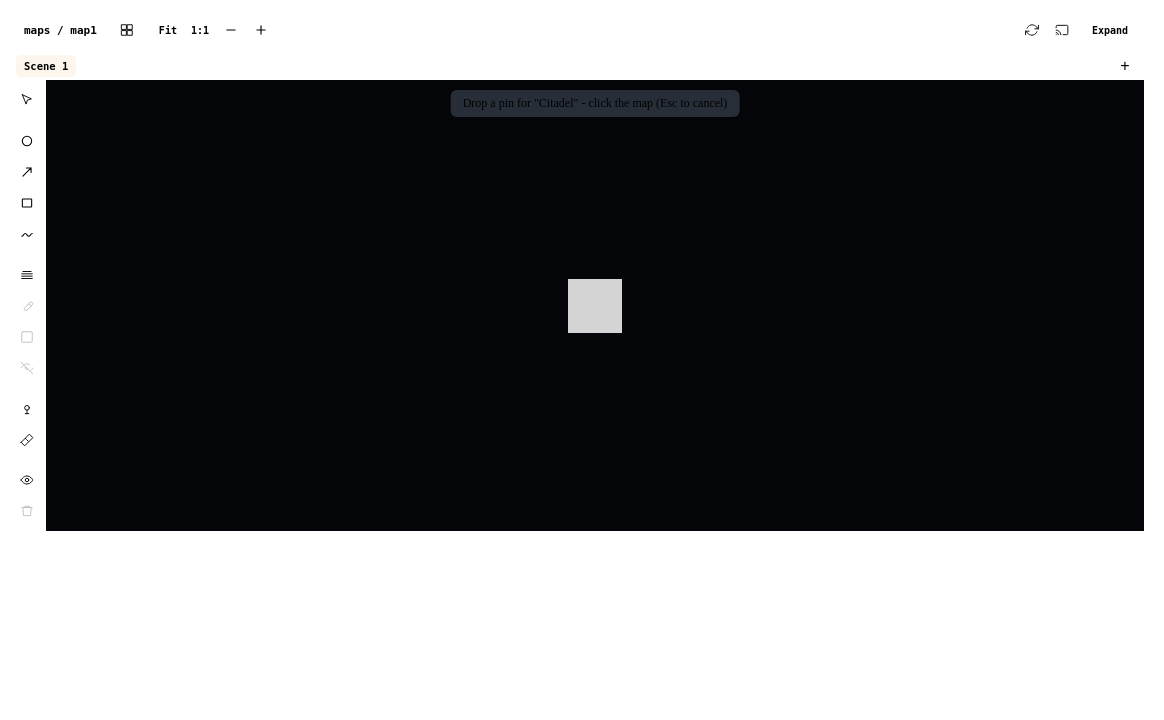
Scenario: MapDisplay - locate a Gazetteer pin › arms place-location when no pin exists yet, and a map click drops a linked pin
The image size is (1164, 720).
Expected: the text "Drop a pin for \"Citadel\" - click the map (Esc to cancel)" is shown, [451, 90, 739, 117]
Press the mouse on the element showing "Drop a pin for \"Citadel\" - click the map (Esc to cancel)" at (595,306), box [46, 80, 1144, 531]
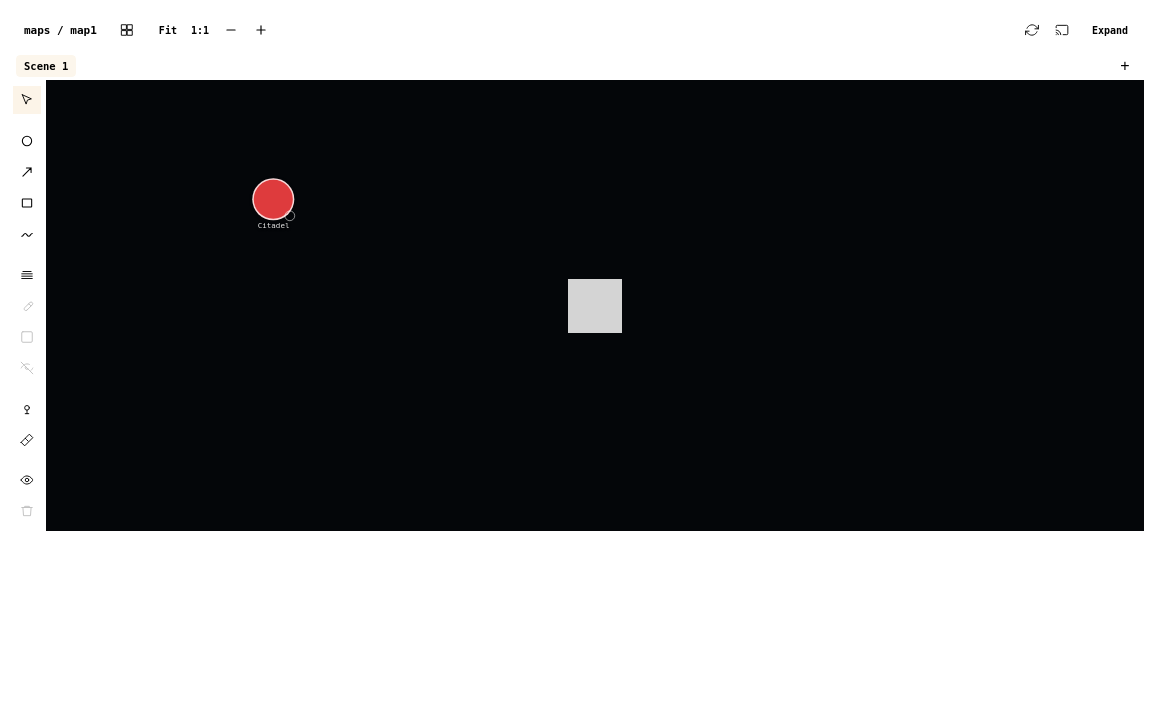
Expected: the text "Citadel" is shown, [258, 220, 290, 228]
Expected: the text "Drop a pin for" is gone
Expected: the element titled "Linked to a Gazetteer place" is shown, [285, 210, 295, 220]
